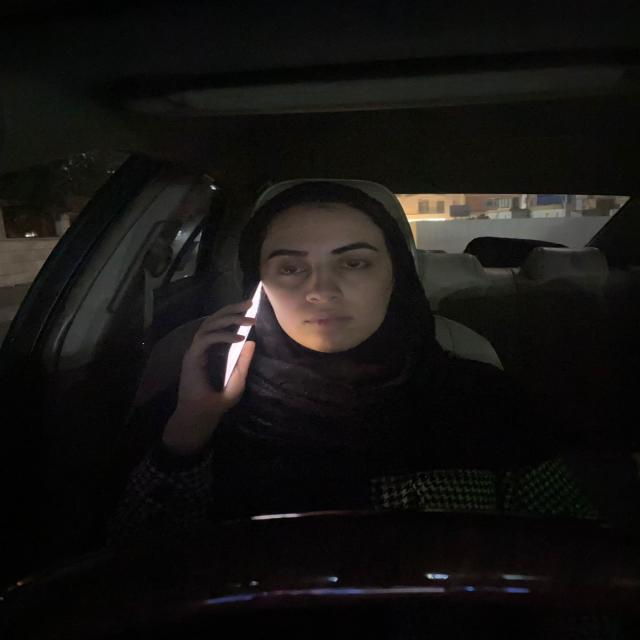phone: (206, 279, 264, 391)
